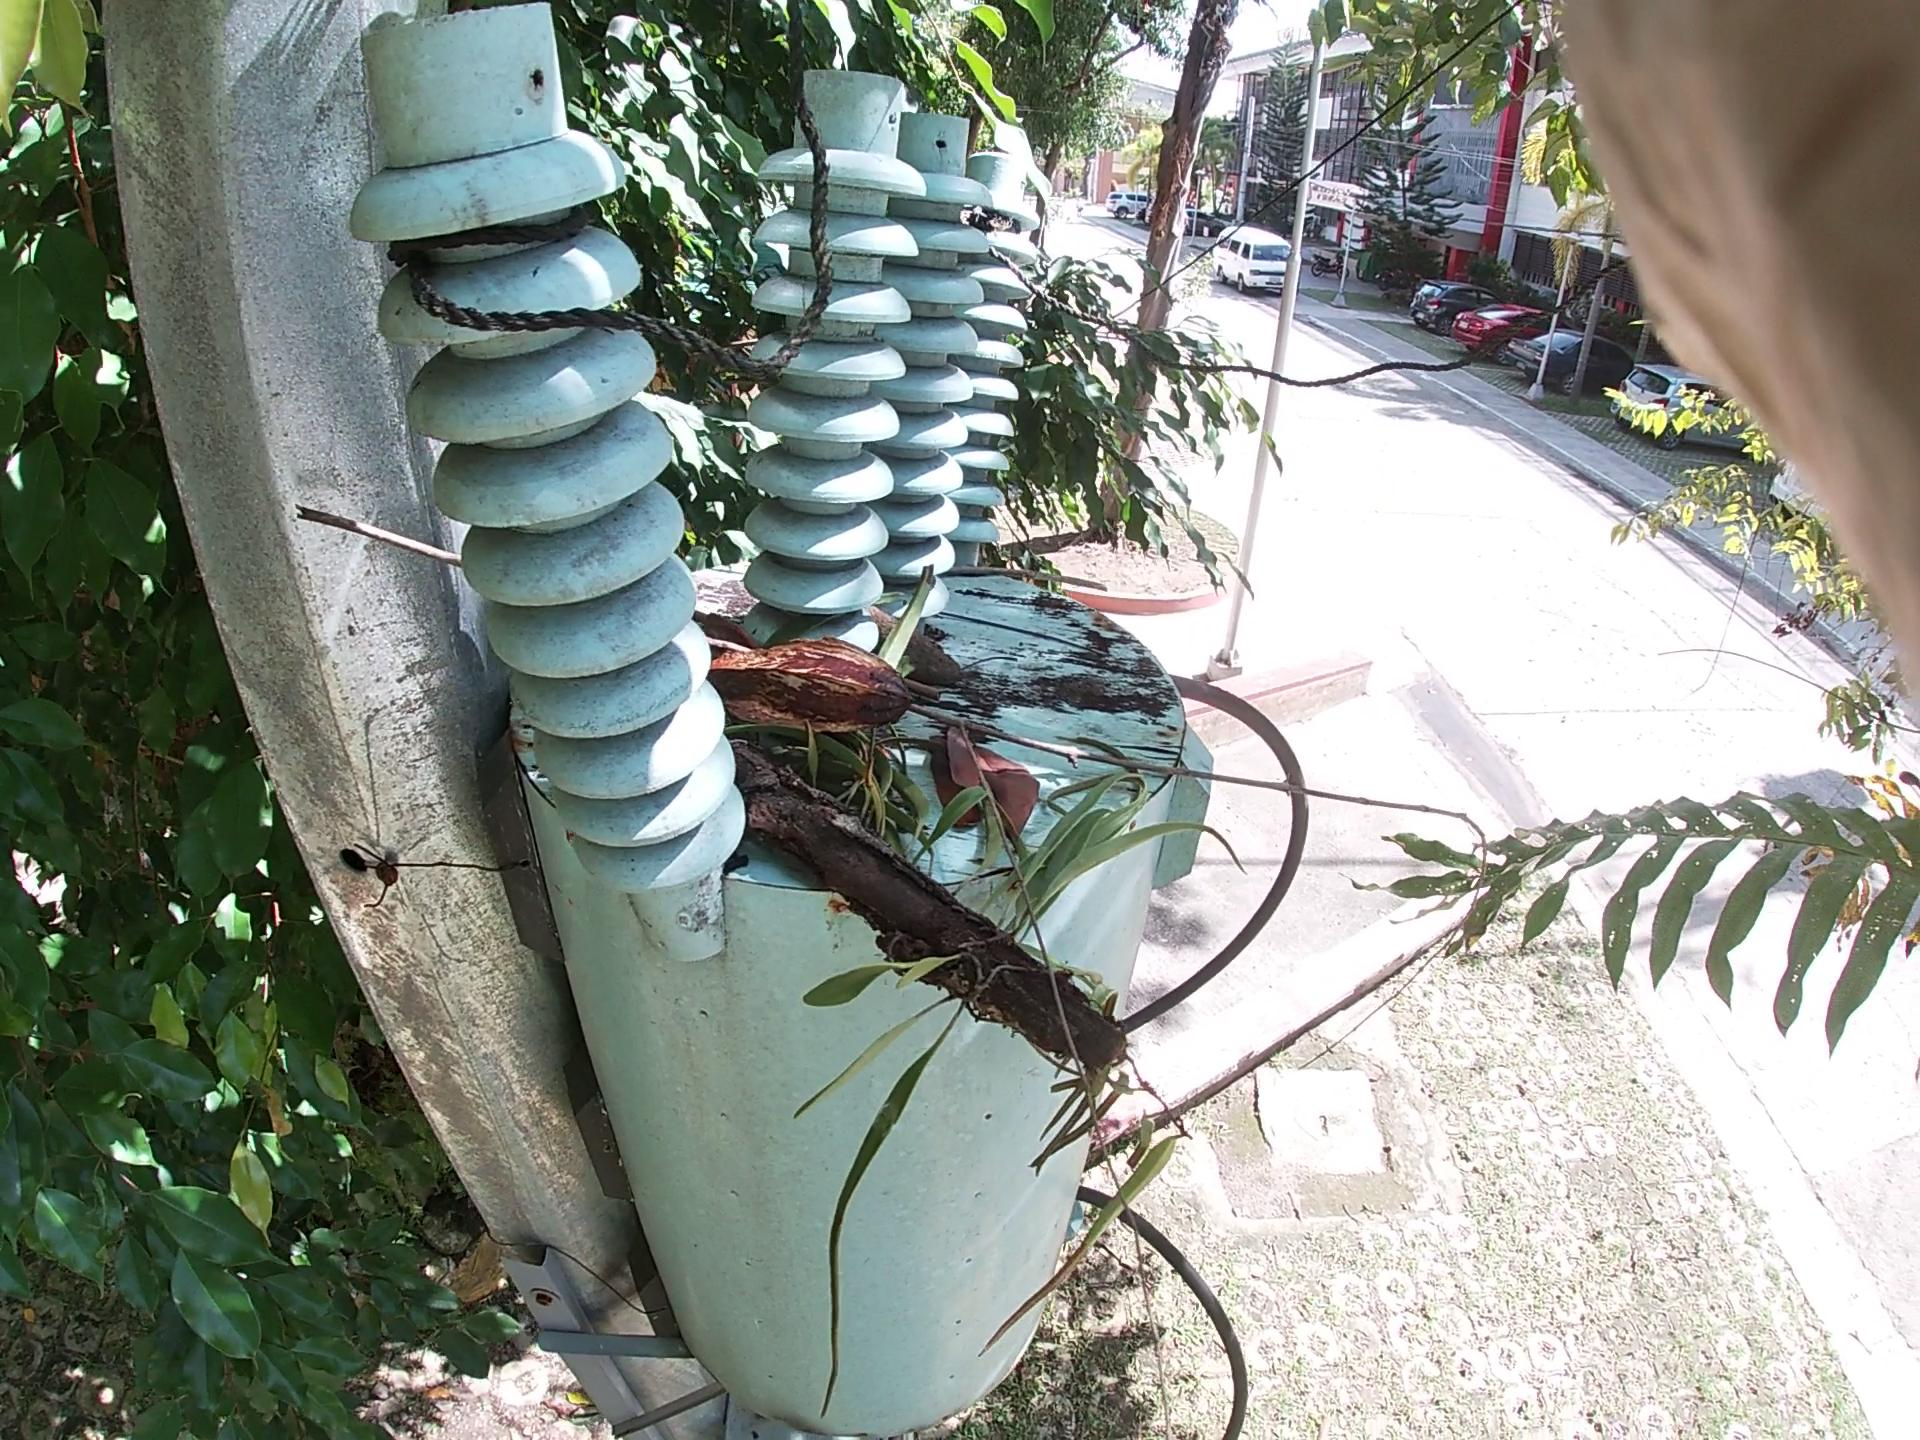branch with leaves: (584, 563, 1191, 1231)
leaf: (904, 702, 1055, 853)
mahogany fruit: (868, 576, 1022, 731), (729, 635, 838, 744)
tree branch: (703, 573, 1521, 892), (925, 511, 1138, 650), (872, 640, 989, 729)
